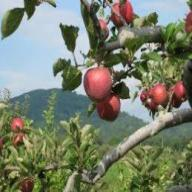apple: (80, 67, 114, 100), (95, 93, 121, 123), (109, 3, 132, 27), (150, 84, 168, 104), (173, 81, 187, 103), (10, 116, 24, 136)
